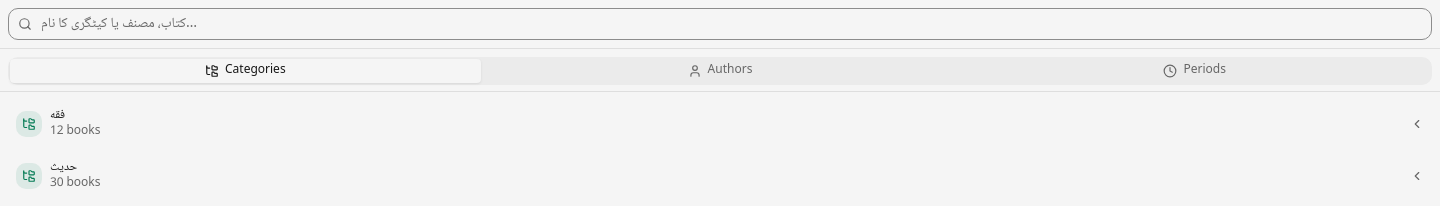
Test: BrowseTab — catalogue browsing state machine › once connected › surfaces a book-loading failure without wedging the loading state
Click the text "فقه": (58, 116) x1=50 y1=105 x2=65 y2=126
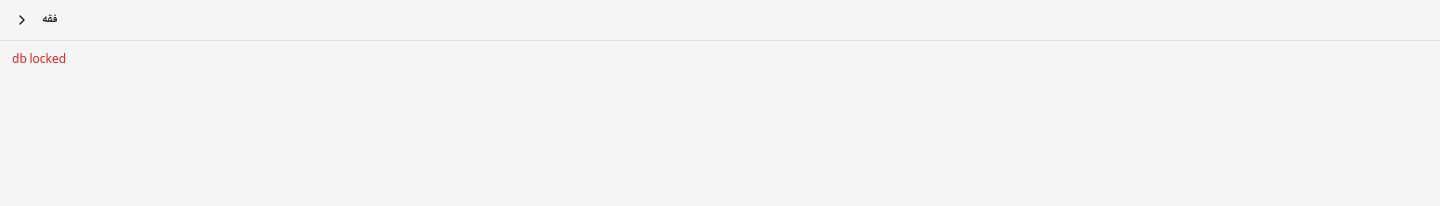
Expected: the text "db locked" is shown, x1=12 y1=50 x2=66 y2=71
